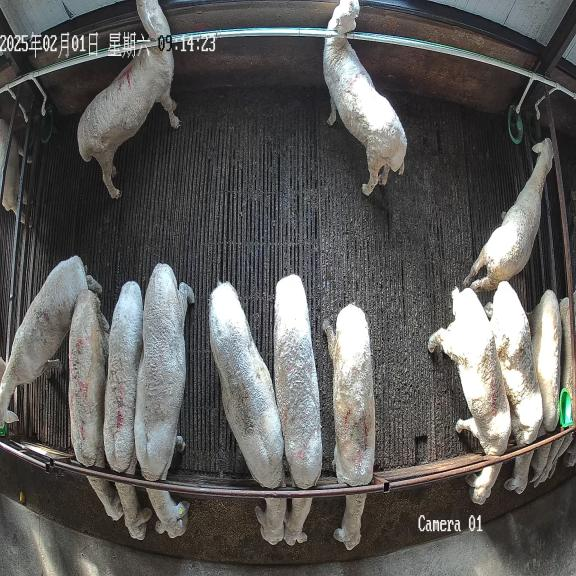eating: (209, 282, 290, 544), (428, 288, 511, 504), (134, 263, 194, 538), (69, 275, 123, 520), (274, 274, 322, 546), (323, 304, 375, 550), (104, 281, 152, 540), (490, 281, 543, 494), (528, 290, 561, 486)
stand: (77, 0, 180, 198), (0, 256, 102, 428), (323, 0, 407, 196), (464, 138, 553, 292)
